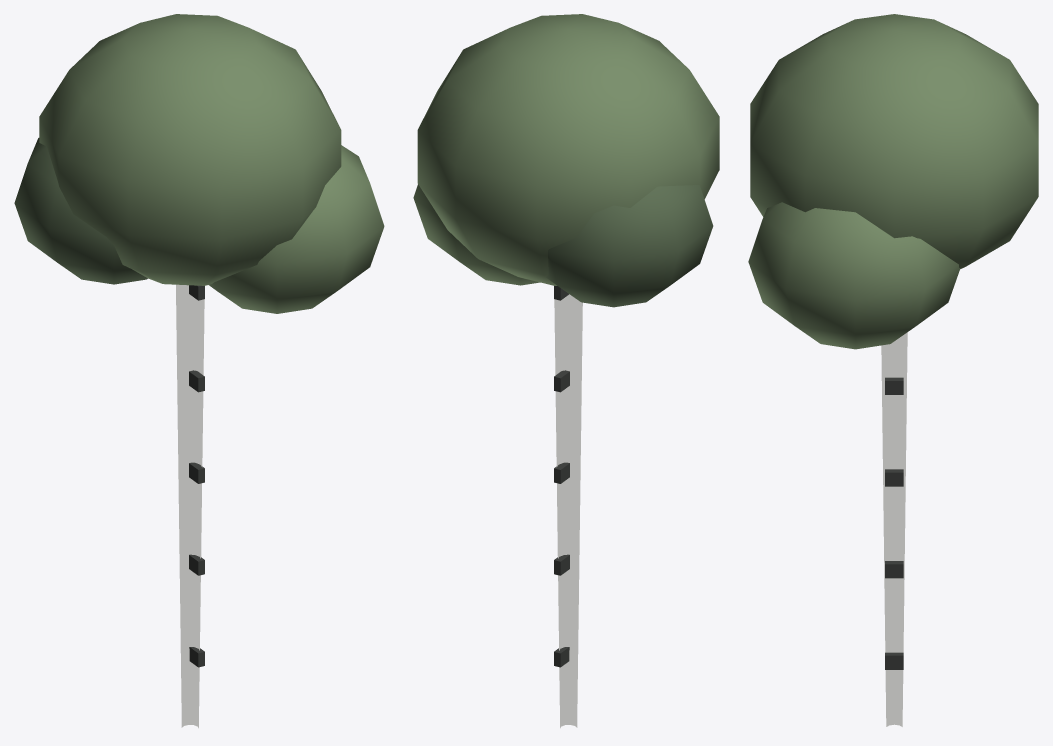
The model's file is p_tree_birch.glb.
3 renders of one model, left to right at view 1: azimuth 30°, elevation 25°; view 2: azimuth 150°, elevation 25°; view 3: azimuth 270°, elevation 25°, orthographic.
Visible parts, largest first — view 1: body; view 2: body; view 3: body.
Part boxes in pixels (x1,y1,x2,y2): body: (14,14,384,728); body: (413,14,719,728); body: (748,14,1038,726).
Bounding box in the file's own units: 4.52 × 9.9 × 3.73.
